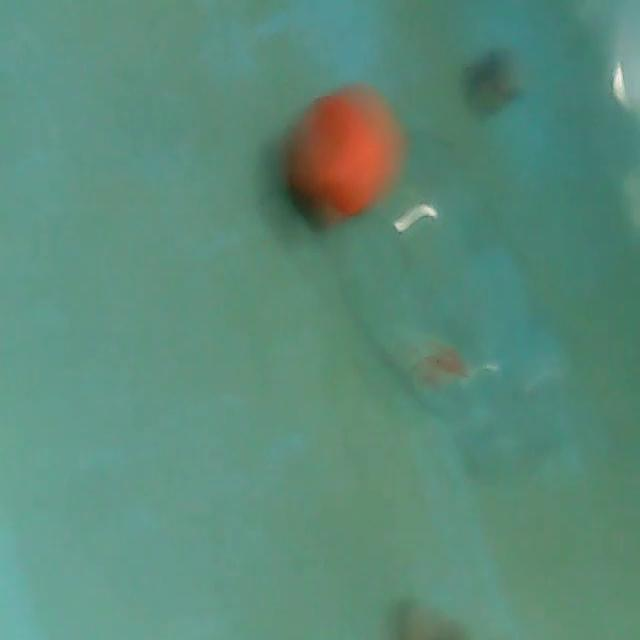plastic bottle: (287, 78, 613, 484)
